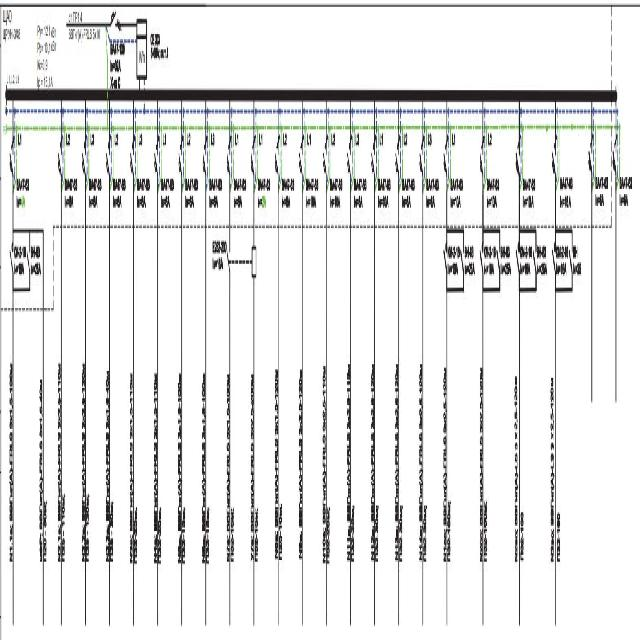-: (110, 39, 126, 90), (150, 30, 168, 62), (329, 174, 344, 212), (483, 242, 498, 280), (353, 174, 368, 212), (449, 177, 464, 214), (558, 175, 572, 213), (619, 174, 633, 212), (306, 174, 320, 212), (447, 243, 461, 281), (402, 174, 416, 212), (257, 174, 271, 212), (518, 242, 532, 280), (378, 174, 392, 212), (88, 176, 102, 214), (136, 176, 150, 214), (13, 243, 27, 281), (232, 172, 246, 210), (161, 175, 175, 213), (486, 175, 500, 213), (522, 176, 536, 214), (112, 176, 126, 214), (16, 174, 30, 212), (64, 174, 78, 212), (282, 174, 296, 212), (594, 174, 608, 212), (556, 243, 570, 281), (185, 176, 199, 214), (212, 235, 226, 272), (425, 177, 439, 214), (208, 177, 222, 214), (29, 243, 41, 281), (464, 242, 476, 278), (536, 244, 548, 280), (500, 242, 512, 278), (3, 25, 21, 45), (572, 242, 582, 278)
KM: (226, 242, 256, 281), (8, 239, 14, 277), (478, 237, 484, 275), (552, 238, 558, 276), (442, 239, 448, 277), (514, 240, 520, 278)
QF: (109, 6, 122, 32), (298, 132, 304, 178), (274, 132, 280, 178), (250, 134, 256, 180), (322, 131, 328, 177), (226, 132, 232, 178), (202, 134, 208, 180), (178, 136, 184, 182), (370, 132, 376, 178), (129, 132, 135, 178), (106, 132, 112, 178), (395, 132, 401, 178), (81, 134, 87, 180), (57, 134, 63, 180), (419, 136, 425, 182), (9, 132, 15, 178), (442, 132, 448, 178), (478, 132, 484, 178), (514, 134, 520, 180), (552, 134, 558, 180), (588, 132, 594, 178), (154, 132, 160, 178), (612, 132, 618, 178), (347, 132, 352, 178)
QS: (458, 240, 464, 279), (568, 242, 574, 281), (531, 241, 537, 280), (496, 241, 502, 280), (26, 242, 32, 276)
WH: (135, 15, 148, 79)
